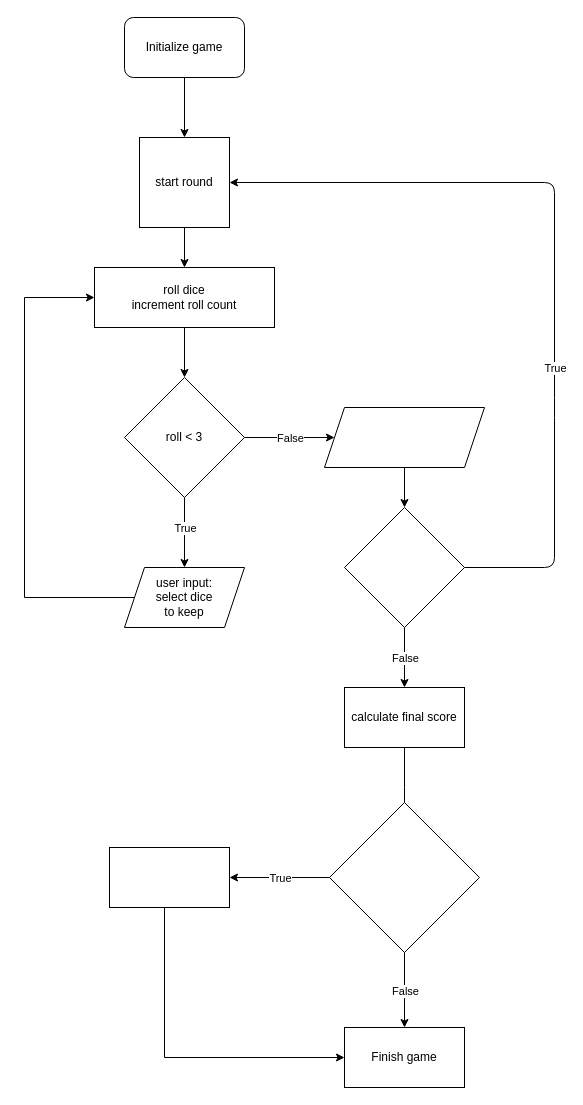
This 583x1105 diagram has some shape labels left out. The centre of each missing label's shape, as x and y in pixels:
"highscore[?] = score" belongs at [169,877].
"round < 15" belongs at [404,567].
"score > highscore[9]" belongs at [404,877].
"user input: select score type" belongs at [404,437].
